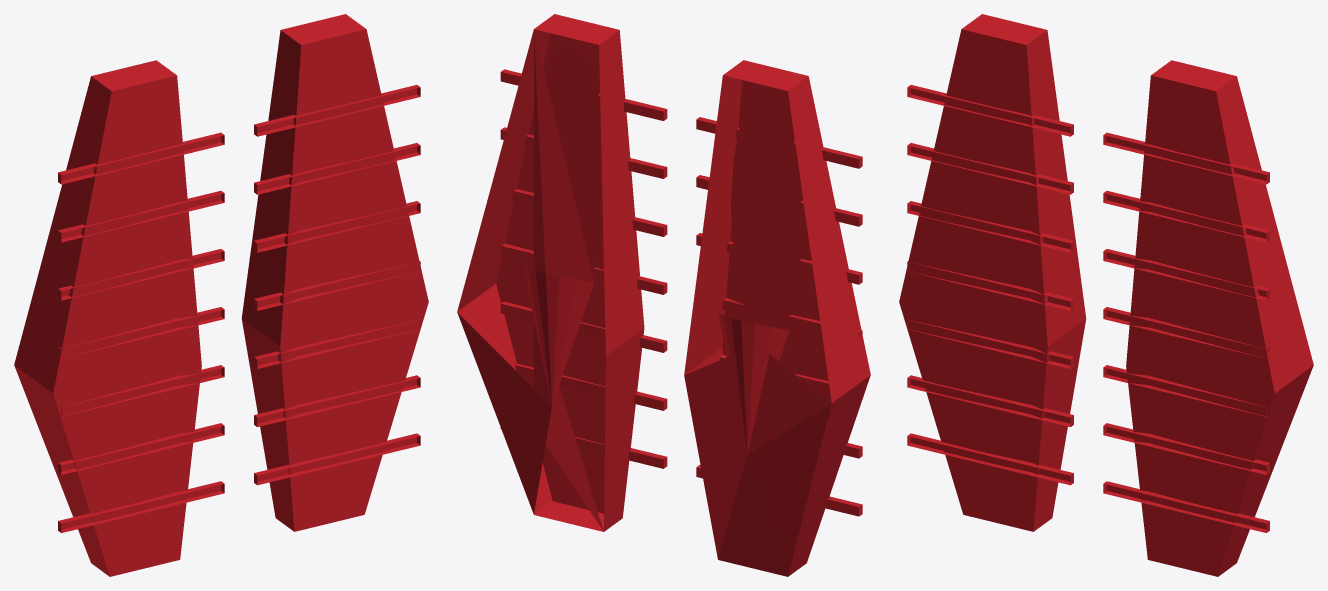
Rendered from JordanHexMule.glb.
3 views of the same model, side by side, from view 1: azimuth 30°, elevation 25°; view 2: azimuth 150°, elevation 25°; view 3: azimuth 330°, elevation 25° (orthographic).
Parts seen in each view (by area): view 1: JordanHexMule_L, JordanHexMule_R; view 2: JordanHexMule_R, JordanHexMule_L; view 3: JordanHexMule_R, JordanHexMule_L.
Boxes of the visible parts, bbox=[...] form: JordanHexMule_L: bbox=[14, 60, 224, 576]; JordanHexMule_R: bbox=[241, 14, 428, 531]; JordanHexMule_R: bbox=[457, 14, 667, 531]; JordanHexMule_L: bbox=[684, 60, 870, 576]; JordanHexMule_R: bbox=[1103, 60, 1313, 576]; JordanHexMule_L: bbox=[899, 14, 1086, 531].
Bounding box in the file's own units: 23 × 28.5 × 4.25.
